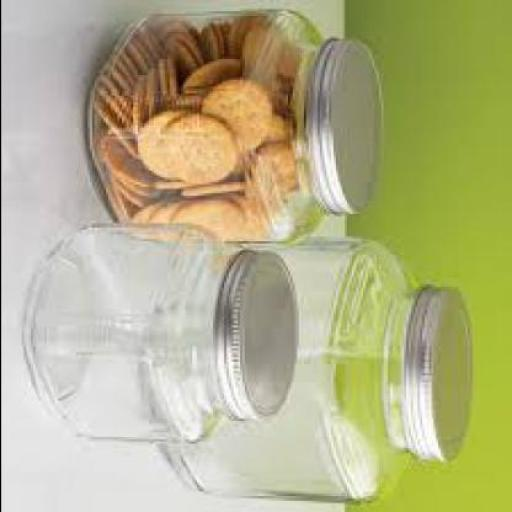biodegradable: (98, 23, 170, 143), (198, 75, 273, 150), (162, 110, 237, 182), (138, 102, 208, 177), (175, 196, 264, 248), (234, 9, 282, 80), (253, 141, 302, 210), (184, 58, 246, 112), (155, 24, 207, 88), (102, 134, 137, 223), (107, 130, 156, 181), (118, 160, 155, 218), (271, 30, 305, 91), (181, 176, 253, 202), (202, 18, 240, 60), (153, 194, 182, 245), (271, 64, 298, 116), (135, 193, 159, 241), (267, 107, 291, 139)
glass: (155, 237, 421, 503), (86, 9, 330, 246), (22, 220, 241, 442)
metal: (216, 248, 298, 418), (310, 35, 384, 214), (406, 288, 476, 458)
